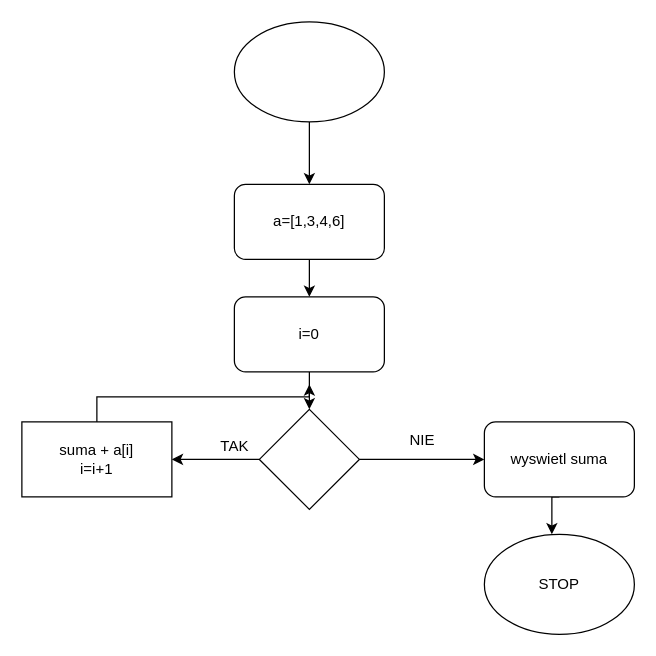
Some shapes in this 656 by 656 pixel diagram are drawn without their labels. The box of each missing label's shape, as (x1, y1, x2, y2) in pixels:
i<a dł: (258, 408, 359, 509)
START: (233, 21, 384, 122)
